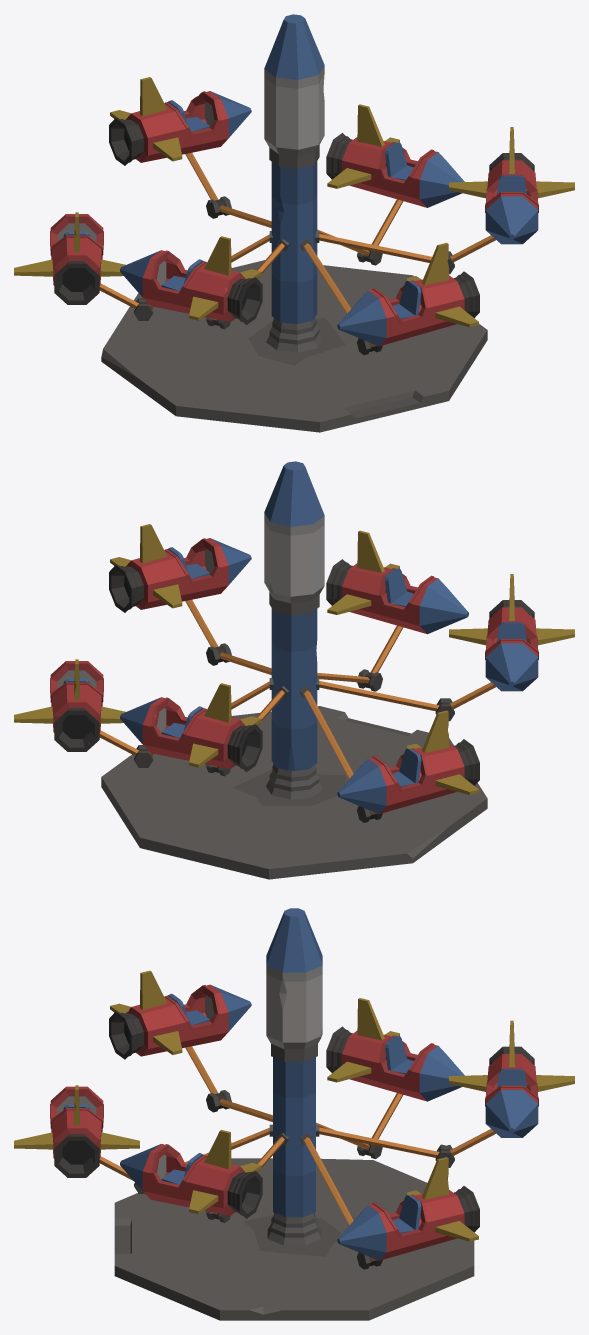
Rendered from SM_Bldg_City_AmusementPark_RocketRide.fbx.
3 renders of one model, top to bottom at view 1: azimuth 30°, elevation 25°; view 2: azimuth 150°, elevation 25°; view 3: azimuth 270°, elevation 25°, orthographic.
Parts seen in each view (by area): view 1: SM_Bldg_City_AmusementPark_RocketRide_Rocket, SM_Bldg_City_AmusementPark_RocketRide; view 2: SM_Bldg_City_AmusementPark_RocketRide_Rocket, SM_Bldg_City_AmusementPark_RocketRide; view 3: SM_Bldg_City_AmusementPark_RocketRide_Rocket, SM_Bldg_City_AmusementPark_RocketRide.
Boxes of the visible parts, x1,y1,x2,y2 form: SM_Bldg_City_AmusementPark_RocketRide_Rocket: (14, 14, 574, 355); SM_Bldg_City_AmusementPark_RocketRide: (101, 260, 487, 432); SM_Bldg_City_AmusementPark_RocketRide_Rocket: (14, 461, 574, 822); SM_Bldg_City_AmusementPark_RocketRide: (101, 706, 487, 879); SM_Bldg_City_AmusementPark_RocketRide_Rocket: (14, 908, 574, 1269); SM_Bldg_City_AmusementPark_RocketRide: (114, 1158, 474, 1320).
Size of the model in its own units: 938 by 640 by 980.
